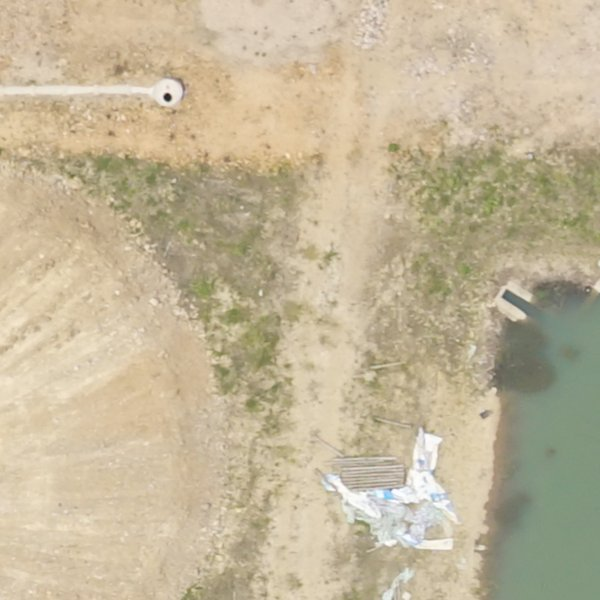Type1: (489, 278, 541, 325)
